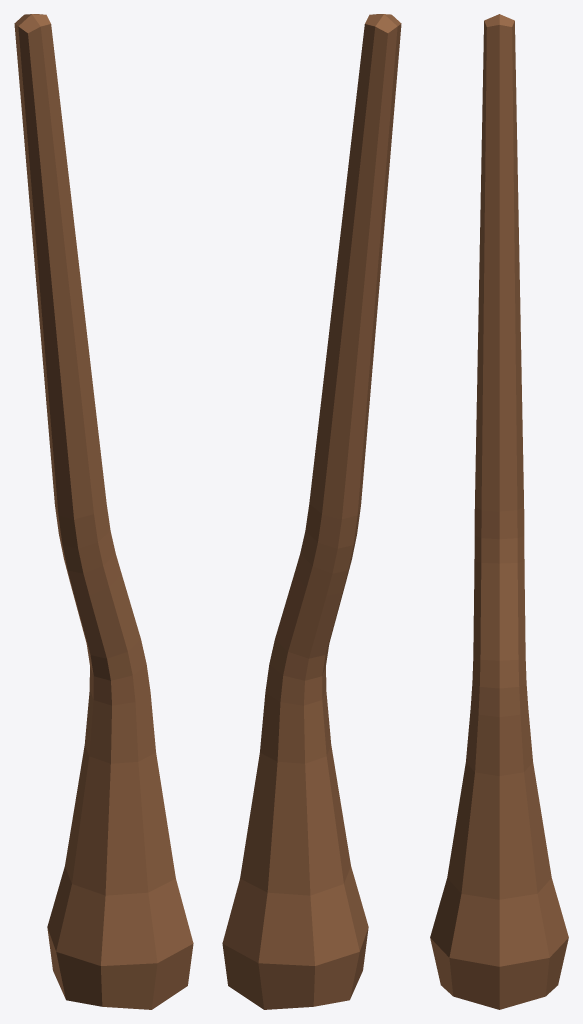
The model's file is tree-summer-trunk-023.glb.
3 views of the same model, side by side, from view 1: azimuth 30°, elevation 25°; view 2: azimuth 150°, elevation 25°; view 3: azimuth 270°, elevation 25° (orthographic). The views are drawn at different scales.
Visible parts, largest first — view 1: Plane.019_268; view 2: Plane.019_268; view 3: Plane.019_268.
Part boxes in pixels (bbox=[...]): Plane.019_268: bbox=[14, 14, 193, 1009]; Plane.019_268: bbox=[222, 14, 401, 1009]; Plane.019_268: bbox=[430, 14, 568, 1009].
Size of the model in its own units: 0.3199 by 1.86 by 0.2471.
